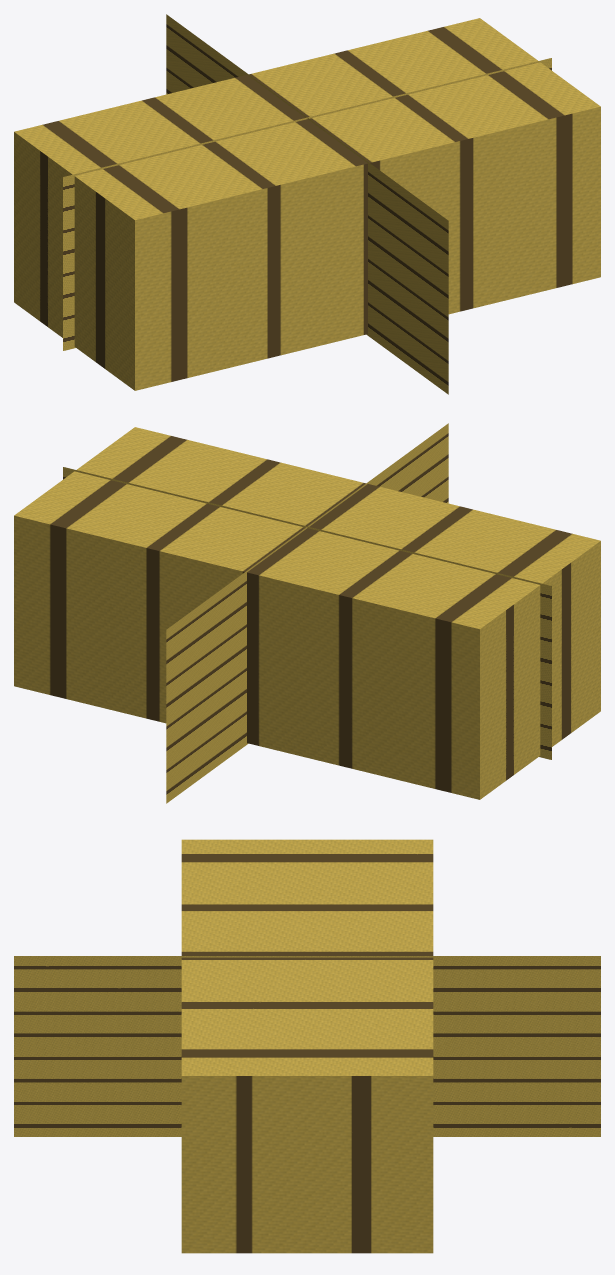
File: haybale_rect_gold.dae
The picture shows the model from 3 angles, top to bottom: view 1: azimuth 30°, elevation 25°; view 2: azimuth 150°, elevation 25°; view 3: azimuth 270°, elevation 25°; orthographic projection. The views are drawn at different scales.
Parts seen in each view (by area): view 1: haybale_rect_gold_a800, haybale_rect_gold_a50, haybale_rect_gold_a200; view 2: haybale_rect_gold_a800, haybale_rect_gold_a200, haybale_rect_gold_a50; view 3: haybale_rect_gold_a800, haybale_rect_gold_a50.
Boxes of the visible parts, x1=… form: haybale_rect_gold_a800: x1=14, y1=18, x2=600, y2=390; haybale_rect_gold_a50: x1=63, y1=14, x2=551, y2=394; haybale_rect_gold_a200: x1=14, y1=132, x2=131, y2=332; haybale_rect_gold_a800: x1=14, y1=427, x2=600, y2=799; haybale_rect_gold_a200: x1=15, y1=629, x2=597, y2=798; haybale_rect_gold_a50: x1=63, y1=423, x2=551, y2=803; haybale_rect_gold_a800: x1=181, y1=839, x2=433, y2=1253; haybale_rect_gold_a50: x1=14, y1=956, x2=600, y2=1136.
Bounding box in the file's own units: 1.05 × 1.05 × 0.357.
2 materials, 1 textured.
